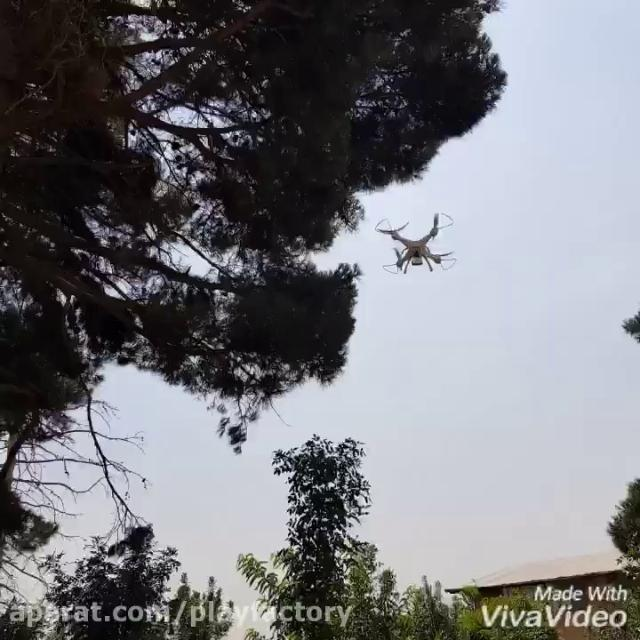drone: (374, 211, 458, 277)
